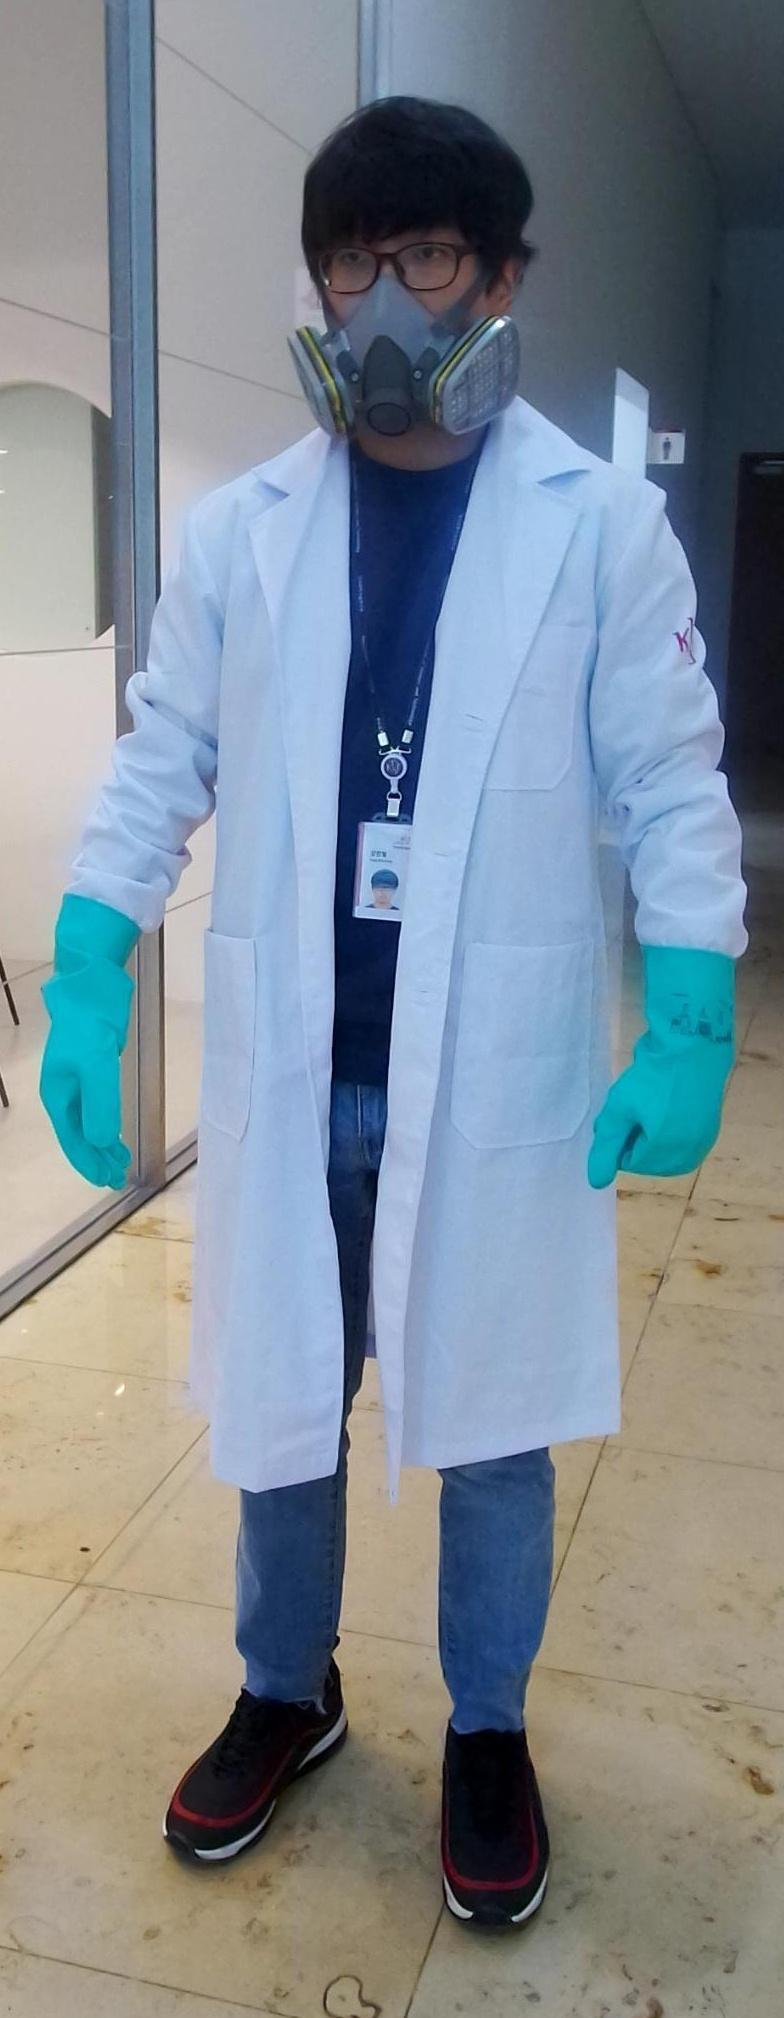lab_coat: (209, 461, 596, 1486)
